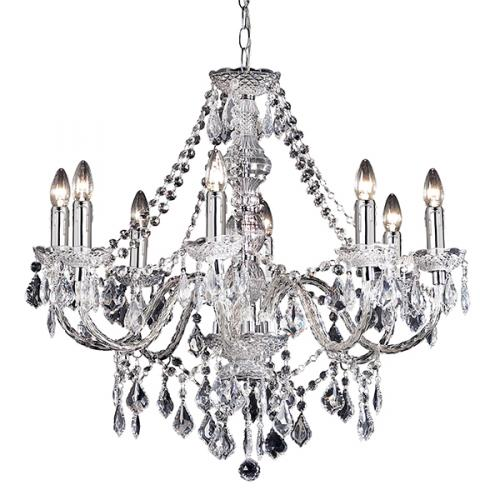chandelier: (20, 2, 474, 481)
